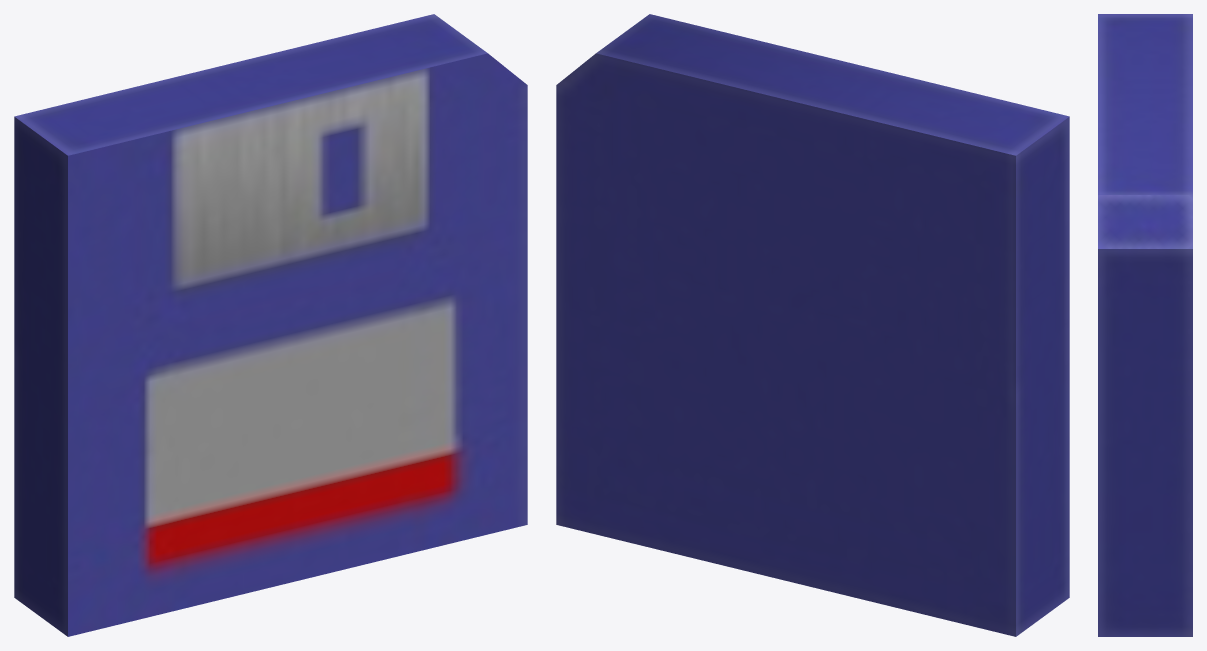
The model's file is red_disk.obj.
3 renders of one model, left to right at view 1: azimuth 30°, elevation 25°; view 2: azimuth 150°, elevation 25°; view 3: azimuth 270°, elevation 25°, orthographic. The views are drawn at different scales.
Visible parts, largest first — view 1: Object04; view 2: Object04; view 3: Object04.
Boxes of the visible parts, x1,y1,x2,y2 form: Object04: (14,14,527,636); Object04: (556,14,1069,636); Object04: (1098,14,1192,636).
Size of the model in its own units: 20.04 by 20.04 by 4.06.
1 material, 1 textured.
